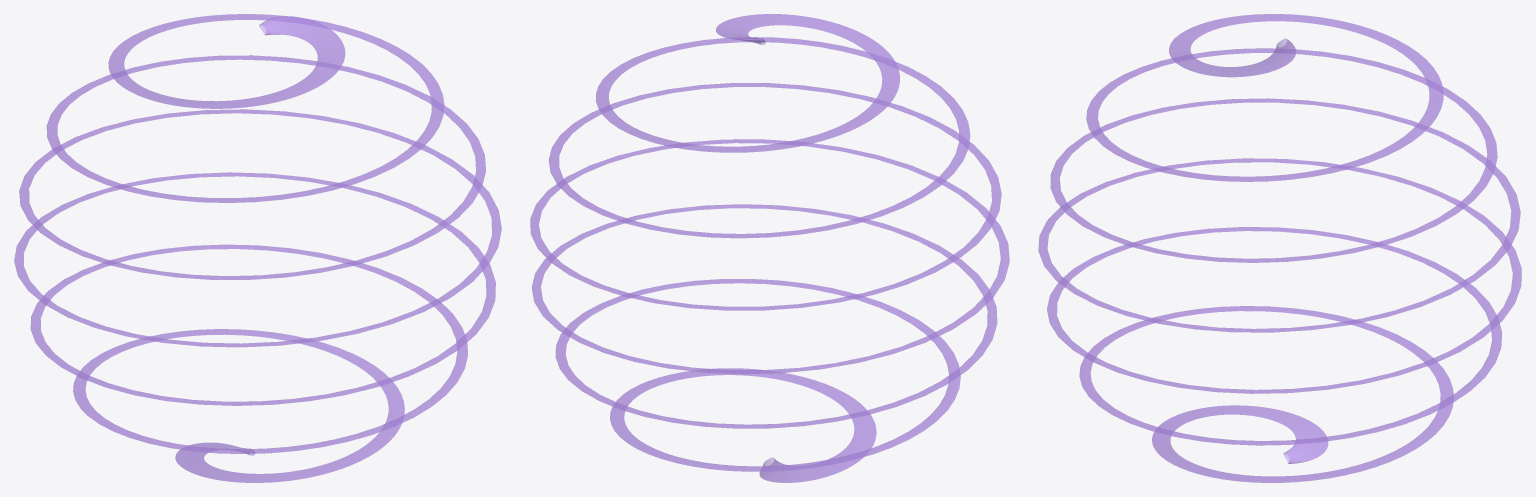
Rendered from helix-simplified-A.glb.
3 renders of one model, left to right at view 1: azimuth 30°, elevation 25°; view 2: azimuth 150°, elevation 25°; view 3: azimuth 270°, elevation 25°, orthographic.
Visible parts, largest first — view 1: Torus.A; view 2: Torus.A; view 3: Torus.A.
Boxes of the visible parts, x1,y1,x2,y2 form: Torus.A: [14, 14, 501, 482]; Torus.A: [530, 14, 1009, 482]; Torus.A: [1038, 14, 1521, 482].
Size of the model in its own units: 20.52 by 20 by 20.46.
